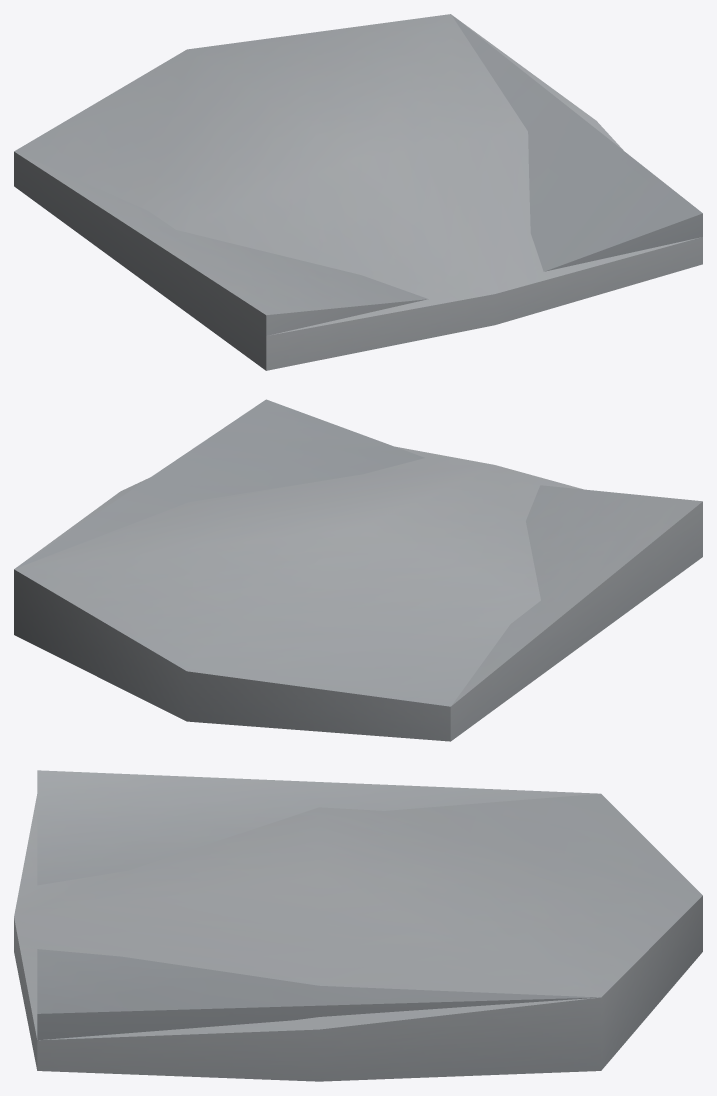
File: Tile.fbx
The picture shows the model from 3 angles, top to bottom: view 1: azimuth 30°, elevation 25°; view 2: azimuth 150°, elevation 25°; view 3: azimuth 270°, elevation 25°; orthographic projection. The views are drawn at different scales.
Visible parts, largest first — view 1: Tile_B, Tile_A; view 2: Tile_B, Tile_A; view 3: Tile_B, Tile_A.
Part boxes in pixels (bbox=[...]): Tile_B: bbox=[14, 14, 702, 370]; Tile_A: bbox=[14, 14, 702, 370]; Tile_B: bbox=[14, 446, 582, 741]; Tile_A: bbox=[15, 399, 702, 741]; Tile_B: bbox=[14, 793, 702, 1081]; Tile_A: bbox=[37, 770, 600, 1040].
Bounding box in the file's own units: 81.25 × 11.35 × 95.
Materials: 1 (1 with a texture image).
